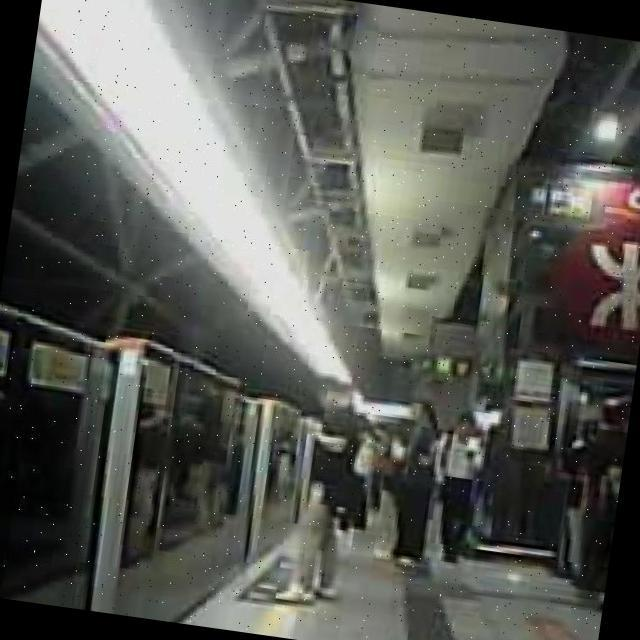person: (278, 381, 384, 608), (376, 400, 446, 570), (422, 407, 492, 565)
